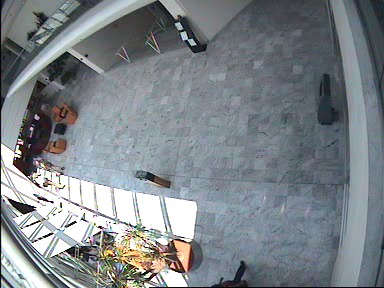person: (207, 260, 249, 287), (30, 173, 64, 189), (35, 159, 65, 173)
